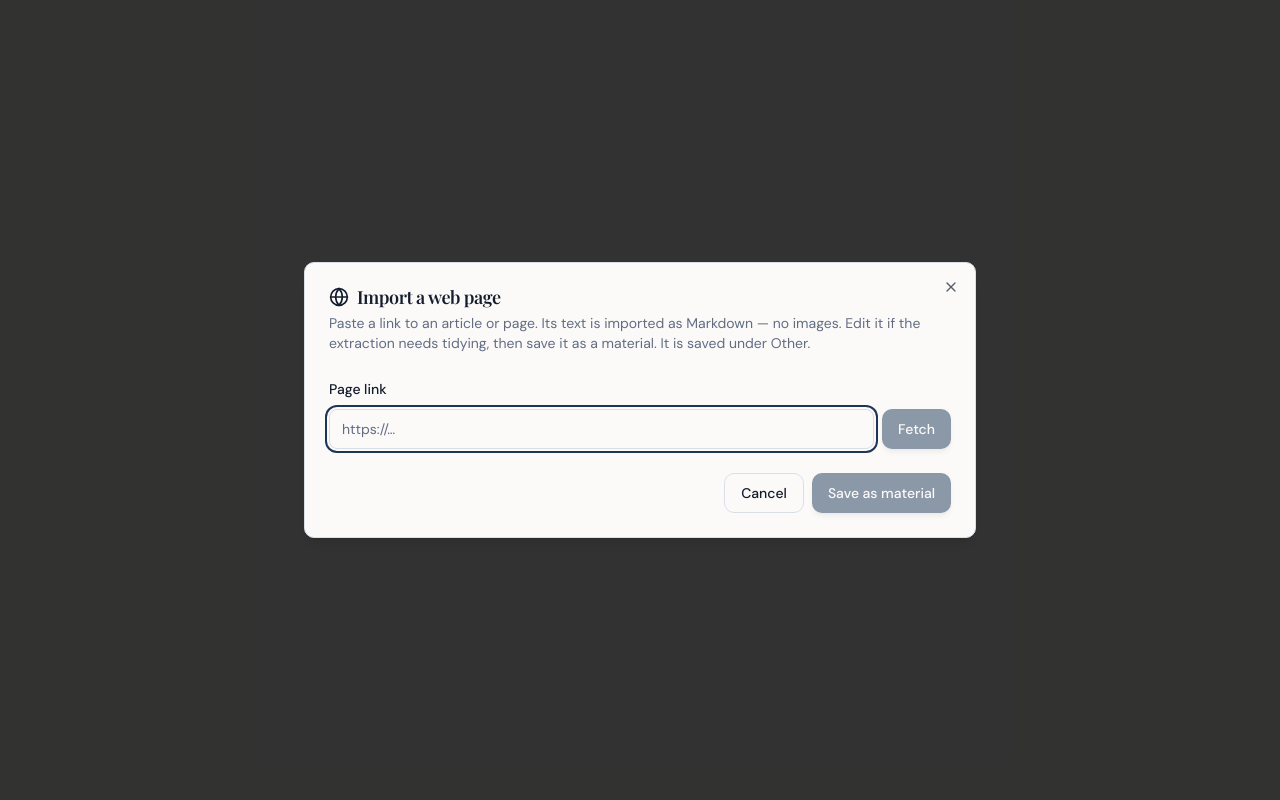
Test: UrlImportDialog › refuses a YouTube link that names no video, under the web import
The image size is (1280, 800).
Type "https://www.youtube.com/playlist?list=PL123" into the field labelled "Page link" at {"x": 602, "y": 429}, box [329,409,874,449]
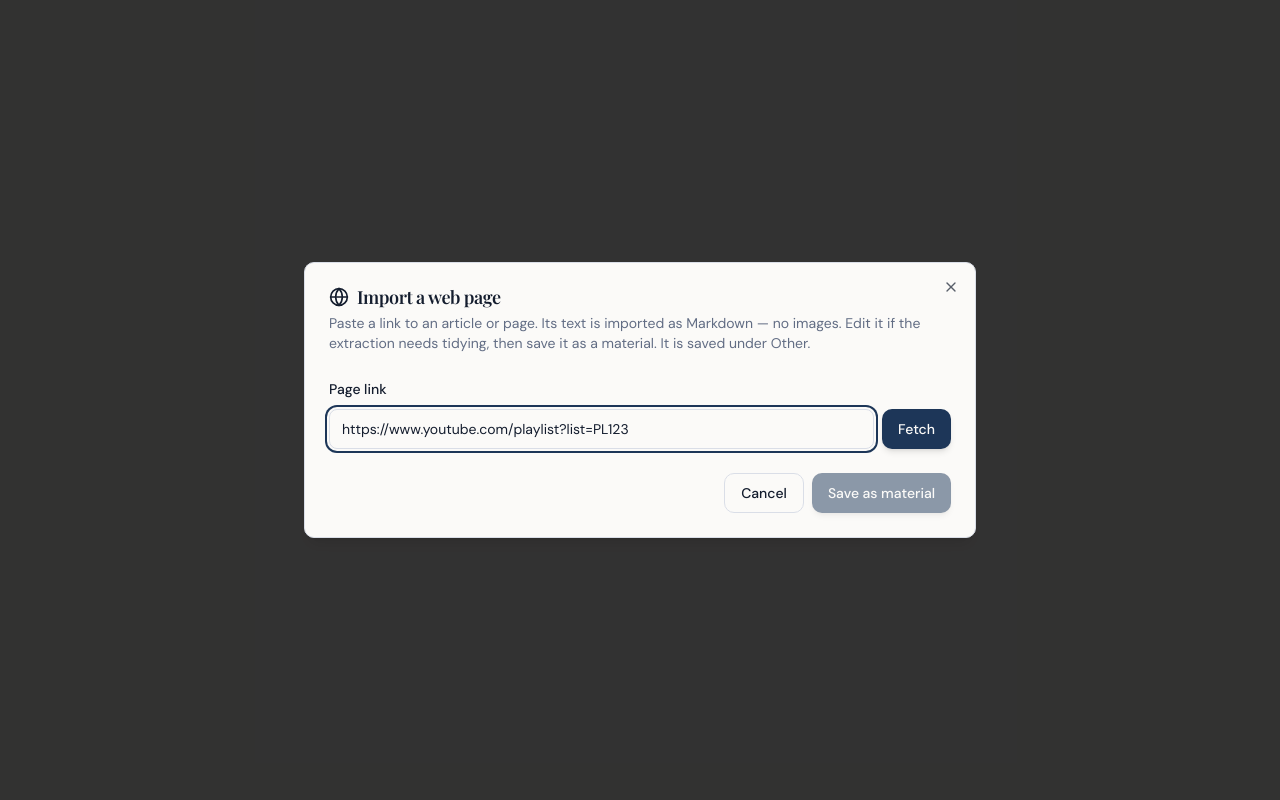
Click the button "Fetch" at {"x": 916, "y": 429}, box [882,409,951,449]
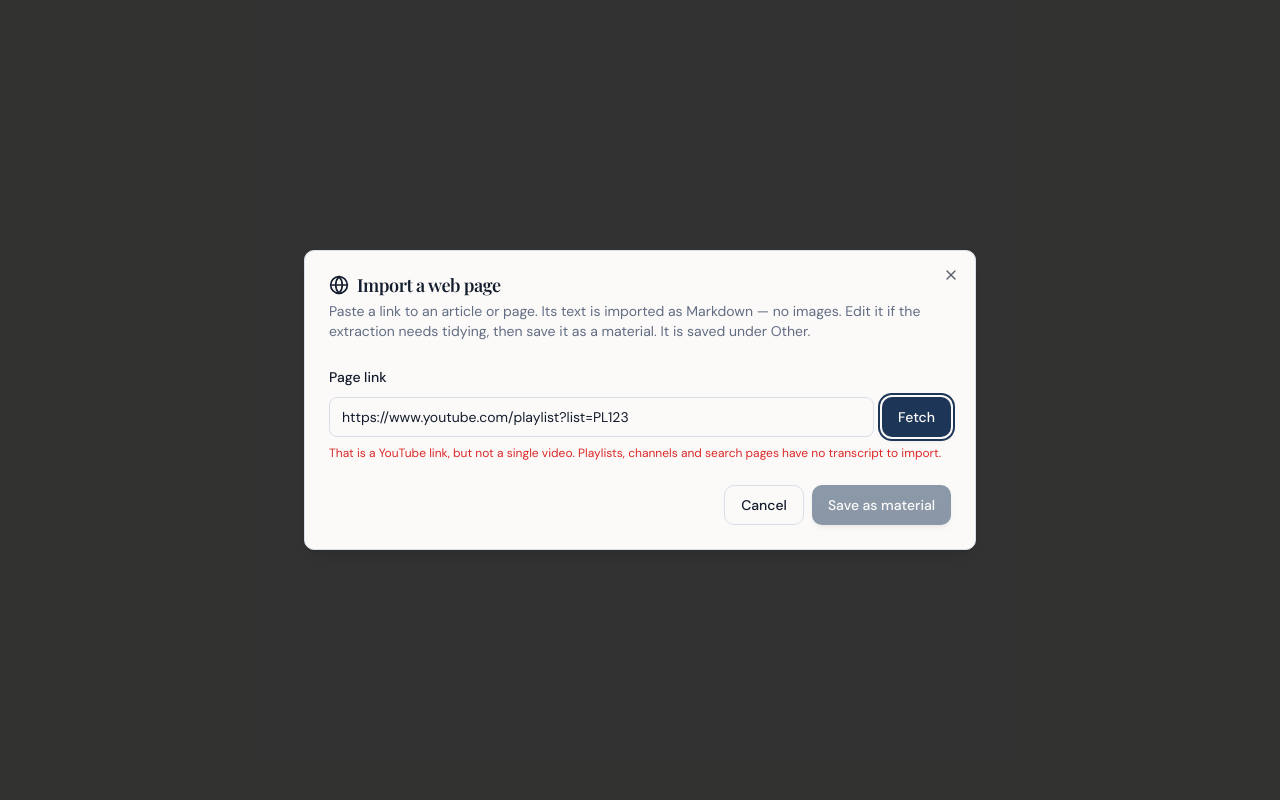
Expected: the text "not a single video" is shown, [329,445,941,461]
